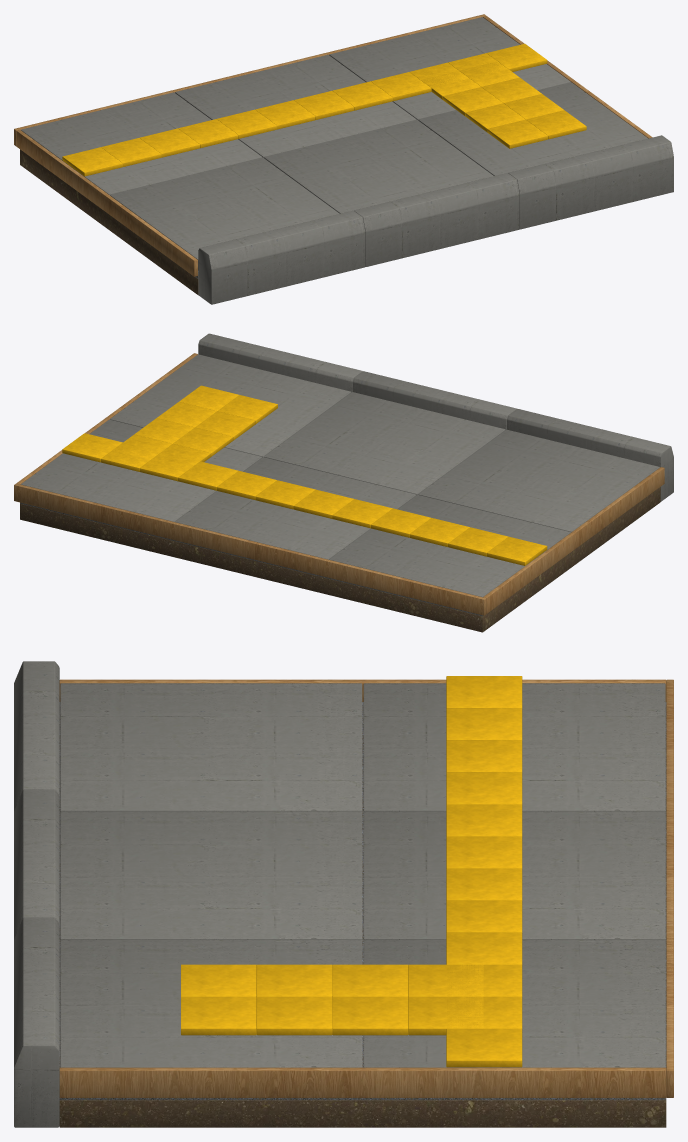
Rendered from KIT-PAV-03.glb.
The picture shows the model from 3 angles, top to bottom: view 1: azimuth 30°, elevation 25°; view 2: azimuth 150°, elevation 25°; view 3: azimuth 270°, elevation 25°; orthographic projection. The views are drawn at different scales.
Parts seen in each view (by area): view 1: KIT-PAV-03_placa00, KIT-PAV-03_placa10, KIT-PAV-03_mf0, KIT-PAV-03_placa01, KIT-PAV-03_placa11, KIT-PAV-03_mf1, KIT-PAV-03_mf2, KIT-PAV-03_placa21, KIT-PAV-03_placa20, KIT-PAV-03_formaB, KIT-PAV-03_base, KIT-PAV-03_formaA (+21 smaller); view 2: KIT-PAV-03_placa10, KIT-PAV-03_placa00, KIT-PAV-03_base, KIT-PAV-03_placa01, KIT-PAV-03_placa11, KIT-PAV-03_placa20, KIT-PAV-03_formaA, KIT-PAV-03_placa21, KIT-PAV-03_mf0, KIT-PAV-03_mf1, KIT-PAV-03_mf2, KIT-PAV-03_formaB (+22 smaller); view 3: KIT-PAV-03_placa00, KIT-PAV-03_placa10, KIT-PAV-03_placa01, KIT-PAV-03_placa11, KIT-PAV-03_placa20, KIT-PAV-03_placa21, KIT-PAV-03_formaC, KIT-PAV-03_base, KIT-PAV-03_mf2, KIT-PAV-03_mf1, KIT-PAV-03_mf0, KIT-PAV-03_lastro (+22 smaller).
Part boxes in pixels (x1,y1,x2,y2): KIT-PAV-03_placa00: (110, 157, 339, 270); KIT-PAV-03_placa10: (264, 120, 493, 213); KIT-PAV-03_mf0: (198, 210, 365, 304); KIT-PAV-03_placa01: (21, 92, 262, 195); KIT-PAV-03_placa11: (175, 55, 416, 157); KIT-PAV-03_mf1: (354, 173, 519, 266); KIT-PAV-03_mf2: (508, 135, 673, 229); KIT-PAV-03_placa21: (329, 17, 570, 119); KIT-PAV-03_placa20: (418, 82, 647, 175); KIT-PAV-03_formaB: (16, 129, 197, 276); KIT-PAV-03_base: (20, 149, 198, 294); KIT-PAV-03_formaA: (14, 14, 486, 145); KIT-PAV-03_placa10: (264, 392, 505, 495); KIT-PAV-03_placa00: (418, 429, 659, 532); KIT-PAV-03_base: (20, 487, 660, 632); KIT-PAV-03_placa01: (329, 495, 570, 597); KIT-PAV-03_placa11: (175, 457, 416, 559); KIT-PAV-03_placa20: (110, 354, 351, 457); KIT-PAV-03_formaA: (14, 483, 486, 615); KIT-PAV-03_placa21: (21, 419, 262, 521); KIT-PAV-03_mf0: (507, 408, 673, 501); KIT-PAV-03_mf1: (352, 371, 516, 429); KIT-PAV-03_mf2: (198, 333, 362, 392); KIT-PAV-03_formaB: (483, 467, 664, 613); KIT-PAV-03_placa00: (60, 683, 362, 811); KIT-PAV-03_placa10: (60, 811, 362, 940); KIT-PAV-03_placa01: (363, 683, 665, 811); KIT-PAV-03_placa11: (363, 811, 665, 940); KIT-PAV-03_placa20: (60, 940, 362, 1067); KIT-PAV-03_placa21: (363, 940, 665, 1067); KIT-PAV-03_formaC: (59, 1067, 666, 1097); KIT-PAV-03_base: (59, 1100, 666, 1127); KIT-PAV-03_mf2: (14, 917, 59, 1127); KIT-PAV-03_mf1: (14, 789, 59, 939); KIT-PAV-03_mf0: (14, 661, 59, 810); KIT-PAV-03_lastro: (59, 702, 666, 1100).
Bounding box in the file's own units: 3.05 × 0.3 × 2.18.
5 materials, 5 textured.
